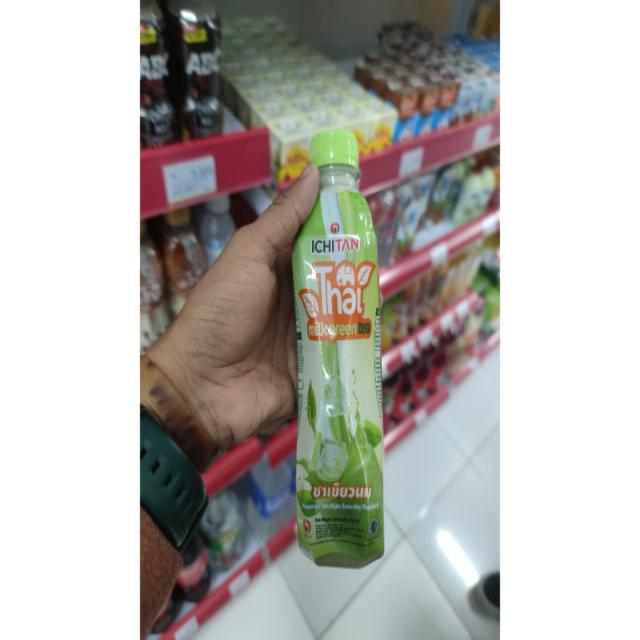botol: (256, 119, 425, 601)
